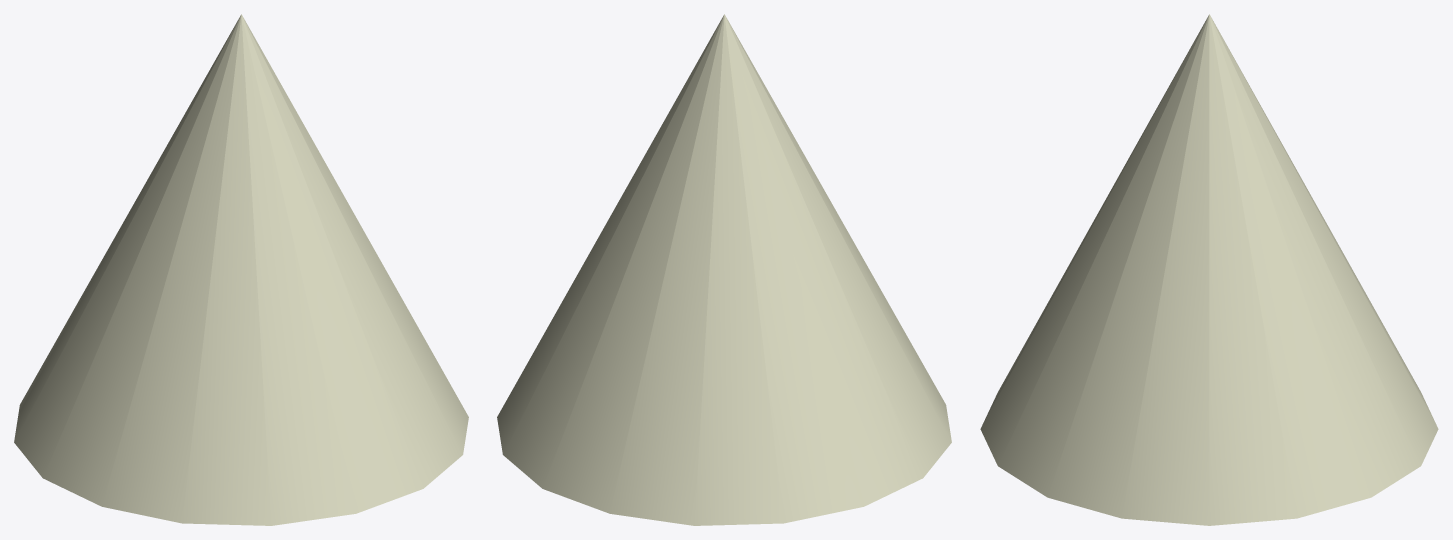
3 renders of one model, left to right at view 1: azimuth 30°, elevation 25°; view 2: azimuth 150°, elevation 25°; view 3: azimuth 270°, elevation 25°, orthographic.
Parts seen in each view (by area): view 1: SketchUp; view 2: SketchUp; view 3: SketchUp.
Part boxes in pixels (<box>): SketchUp: <box>14,14,468,525</box>; SketchUp: <box>497,14,951,525</box>; SketchUp: <box>980,14,1438,525</box>.
Bounding box in the file's own units: 120 × 120 × 120.
